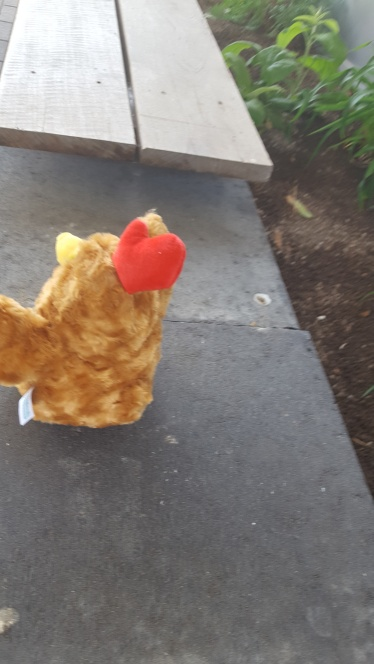chicken_back: (2, 212, 185, 428)
